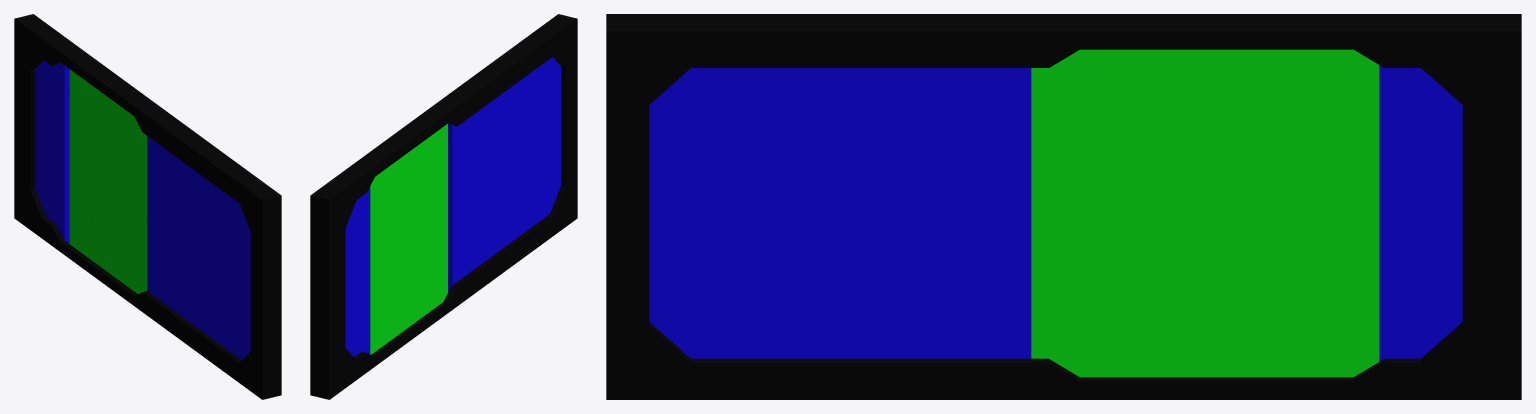
File: SecondDoorAnimation.FBX
3 renders of one model, left to right at view 1: azimuth 30°, elevation 25°; view 2: azimuth 150°, elevation 25°; view 3: azimuth 270°, elevation 25°, orthographic. The views are drawn at different scales.
Parts seen in each view (by area): view 1: Door, Glass, MovingGlass; view 2: Door, Glass, MovingGlass; view 3: Glass, MovingGlass, Door.
Boxes of the visible parts, <box> form: Door: <box>14,14,281,399</box>; Glass: <box>35,60,250,359</box>; MovingGlass: <box>69,69,147,293</box>; Door: <box>310,14,577,399</box>; Glass: <box>345,57,560,356</box>; MovingGlass: <box>370,123,447,354</box>; Glass: <box>649,65,1462,361</box>; MovingGlass: <box>1031,49,1379,377</box>; Door: <box>606,14,1521,399</box>.
Size of the model in its own units: 39.37 by 394 by 885.
